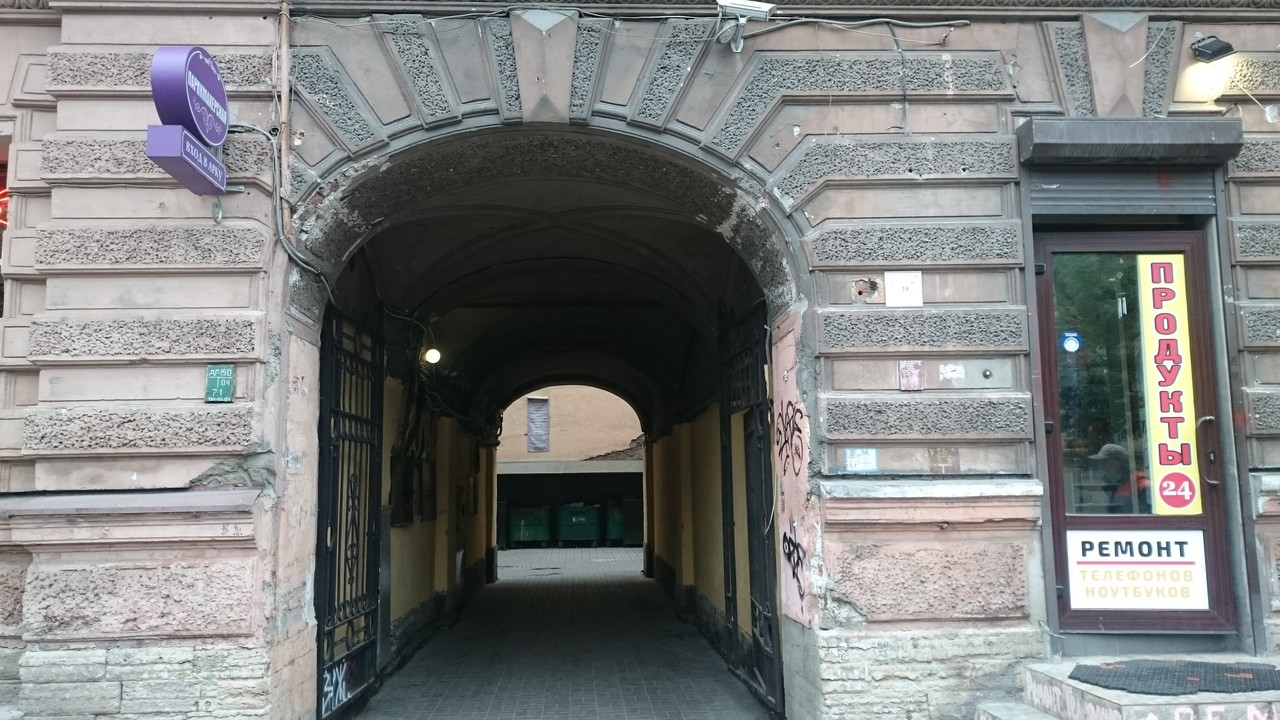arch: (289, 115, 811, 720)
cantilever: (138, 37, 240, 201)
door: (1030, 220, 1231, 638)
